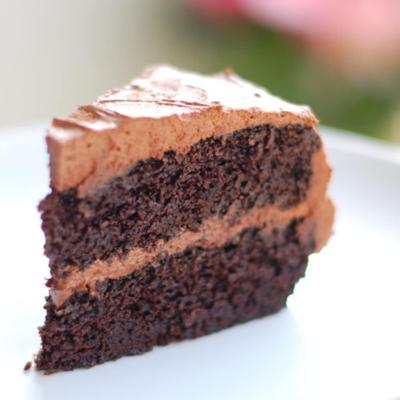cake: (28, 60, 335, 380)
